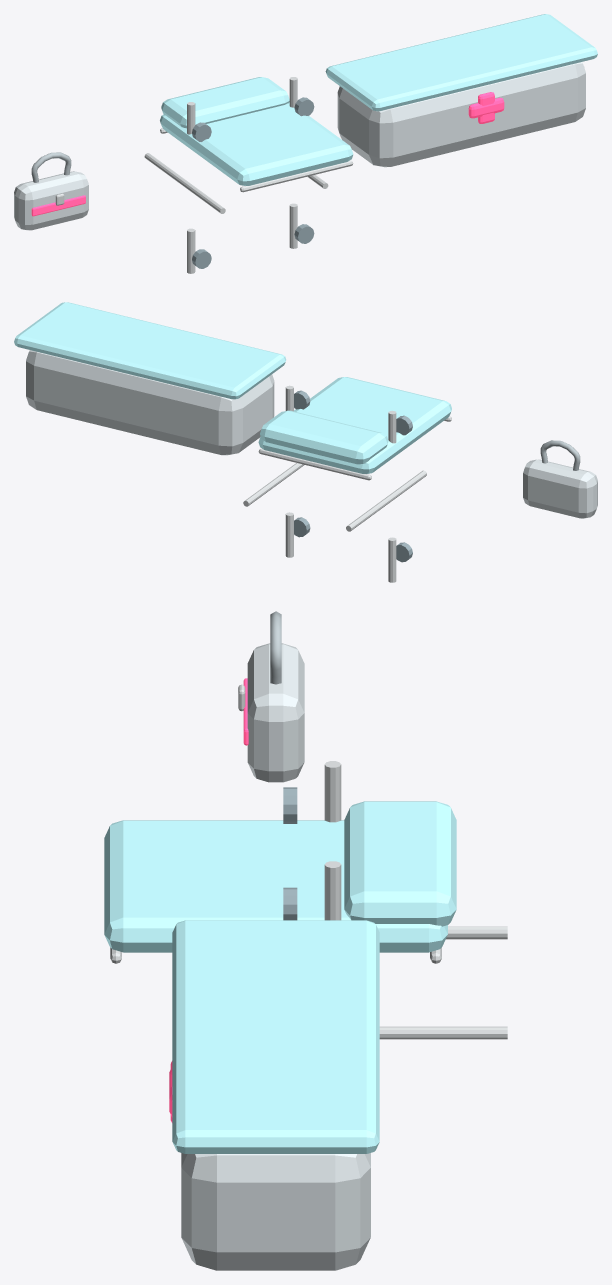
The model's file is botiquin_mobiliario_r7.glb.
3 views of the same model, one above another, from view 1: azimuth 30°, elevation 25°; view 2: azimuth 150°, elevation 25°; view 3: azimuth 270°, elevation 25° (orthographic). The views are drawn at different scales.
Visible parts, largest first — view 1: counter body, bed padded mattress, medkit case, bed side rail, bed leg.002, bed leg; view 2: counter body, bed padded mattress, medkit case, bed side rail, bed side rail.001, bed leg, bed leg.002; view 3: counter body, bed padded mattress, medkit case, bed side rail.001, bed leg.001, bed leg.003, bed side rail.
Boxes of the visible parts, left/top/right/bottom form: counter body: left=325, top=14, right=597, bottom=167; bed padded mattress: left=160, top=77, right=353, bottom=192; medkit case: left=14, top=152, right=88, bottom=230; bed side rail: left=144, top=153, right=225, bottom=213; bed leg.002: left=289, top=203, right=297, bottom=248; bed leg: left=187, top=228, right=195, bottom=273; counter body: left=14, top=302, right=286, bottom=455; bed padded mattress: left=258, top=377, right=451, bottom=480; medkit case: left=523, top=440, right=597, bottom=518; bed side rail: left=346, top=470, right=426, bottom=531; bed side rail.001: left=243, top=463, right=304, bottom=506; bed leg: left=388, top=537, right=396, bottom=582; bed leg.002: left=285, top=512, right=293, bottom=557; counter body: left=169, top=920, right=379, bottom=1270; bed padded mattress: left=104, top=801, right=456, bottom=963; medkit case: left=238, top=611, right=304, bottom=782; bed side rail.001: left=379, top=1026, right=507, bottom=1039; bed leg.001: left=324, top=761, right=341, bottom=822; bed leg.003: left=324, top=861, right=341, bottom=920; bed side rail: left=446, top=926, right=507, bottom=939.
Bounding box in the file's own units: 10.88 × 3.14 × 3.41.
